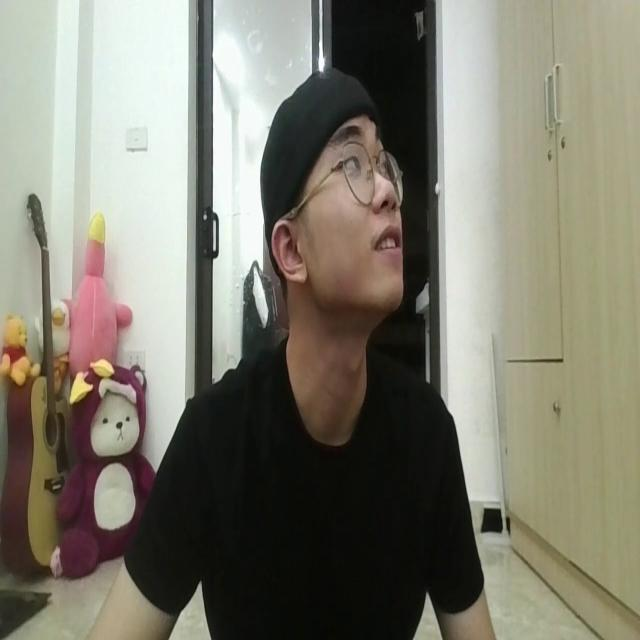student: (76, 68, 508, 640)
